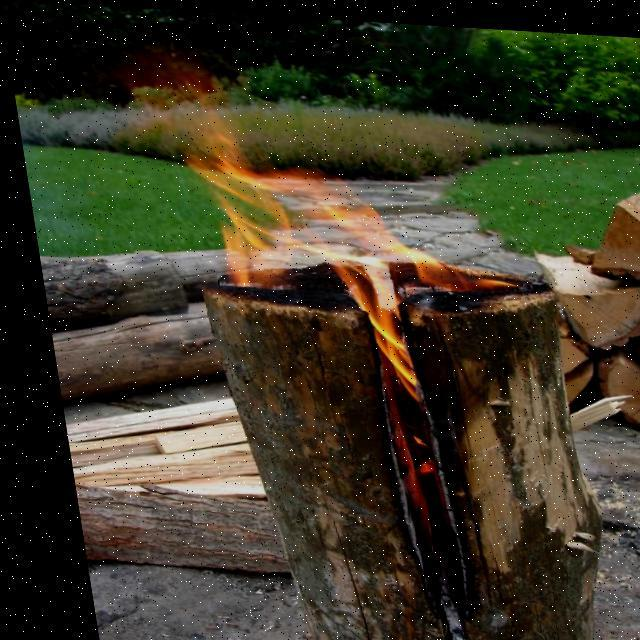Fire: (117, 76, 612, 534)
